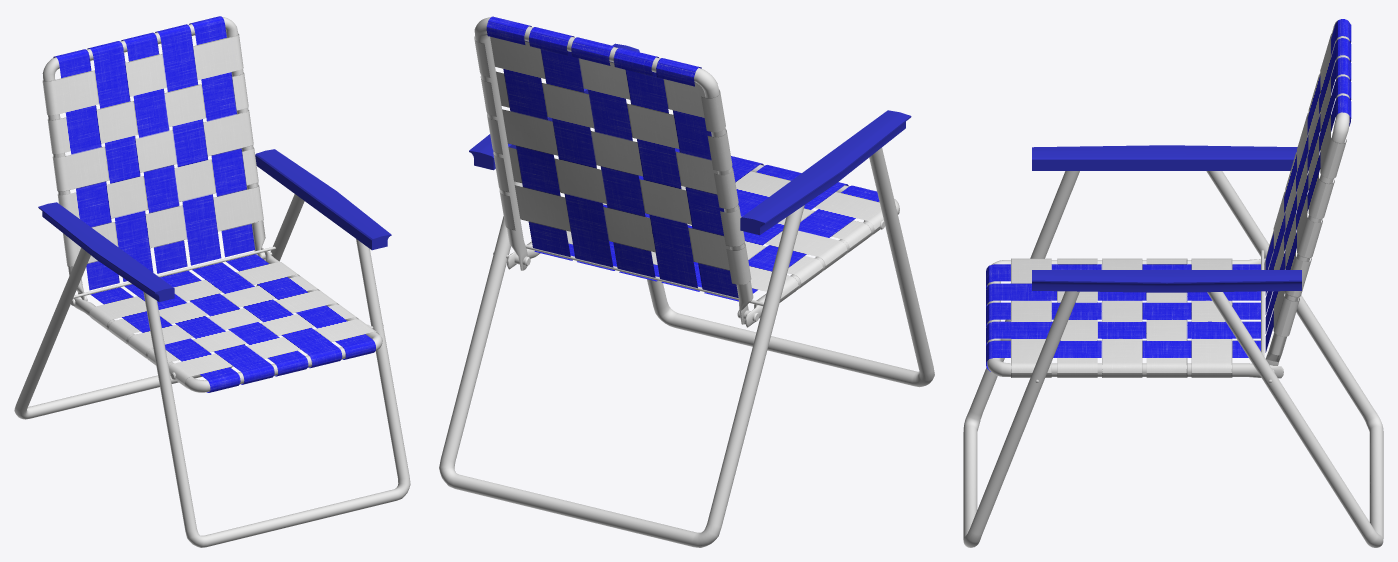
The model's file is lawnchair.fbx.
3 views of the same model, side by side, from view 1: azimuth 30°, elevation 25°; view 2: azimuth 150°, elevation 25°; view 3: azimuth 270°, elevation 25° (orthographic). The views are drawn at different scales.
Parts seen in each view (by area): view 1: Cylinder.001; view 2: Cylinder.001; view 3: Cylinder.001.
Boxes of the visible parts, x1,y1,x2,y2 form: Cylinder.001: (14,16,410,547); Cylinder.001: (439,16,934,547); Cylinder.001: (963,19,1383,547).
Bounding box in the file's own units: 182 × 204 × 141.
